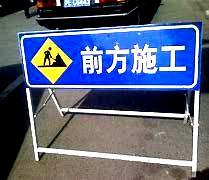sign: (22, 29, 199, 88)
